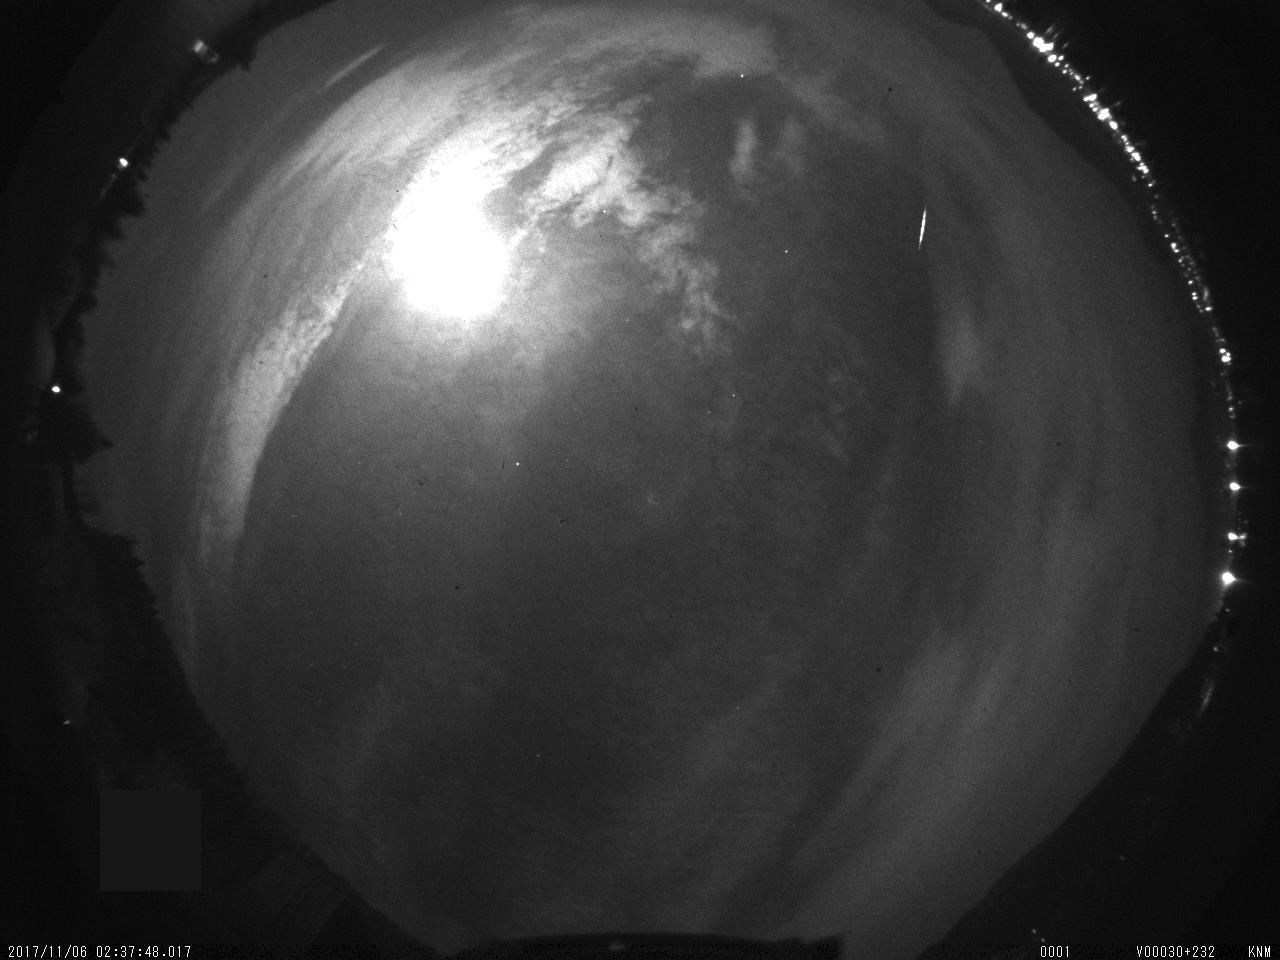Meteor: (912, 201, 929, 254)
